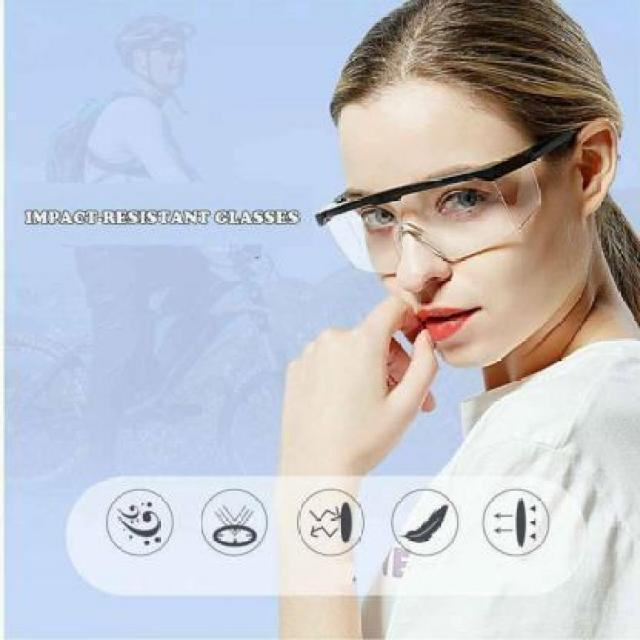Goggles: (311, 129, 590, 283)
